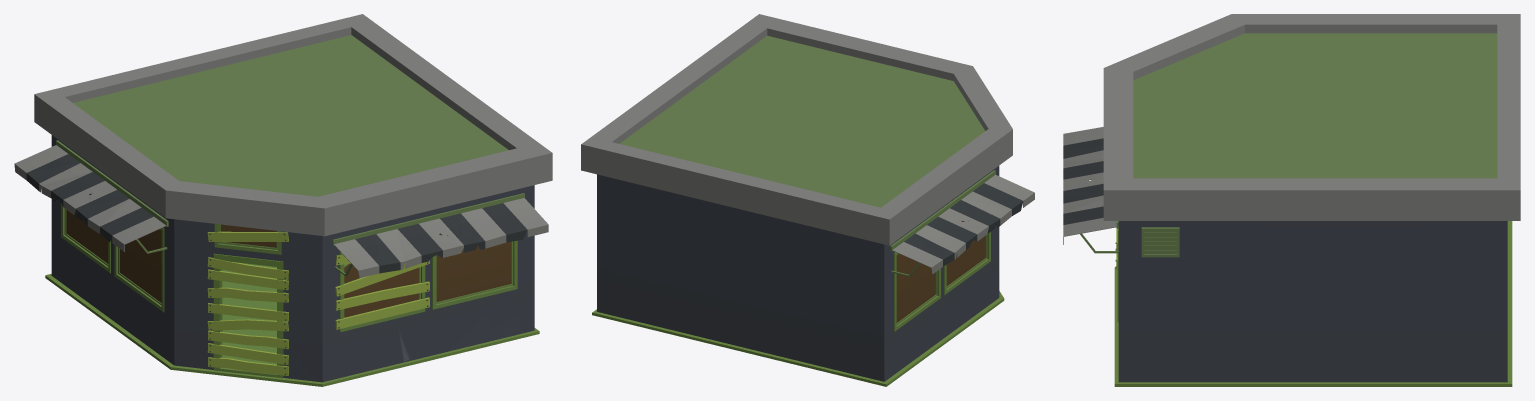
Rendered from House_05.fbx.
The picture shows the model from 3 angles, left to right: view 1: azimuth 30°, elevation 25°; view 2: azimuth 150°, elevation 25°; view 3: azimuth 270°, elevation 25°; orthographic projection. The views are drawn at different scales.
Parts seen in each view (by area): view 1: House_05; view 2: House_05; view 3: House_05.
Part boxes in pixels (left/top/right/bottom): House_05: left=14, top=14, right=552, bottom=386; House_05: left=581, top=14, right=1034, bottom=386; House_05: left=1063, top=14, right=1520, bottom=386.
Bounding box in the file's own units: 7.07 × 3.42 × 7.06.
